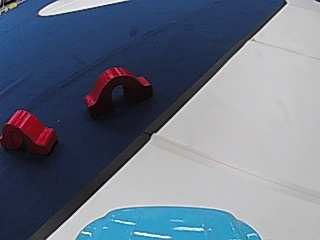bridge: (82, 62, 154, 116), (0, 108, 59, 156)
